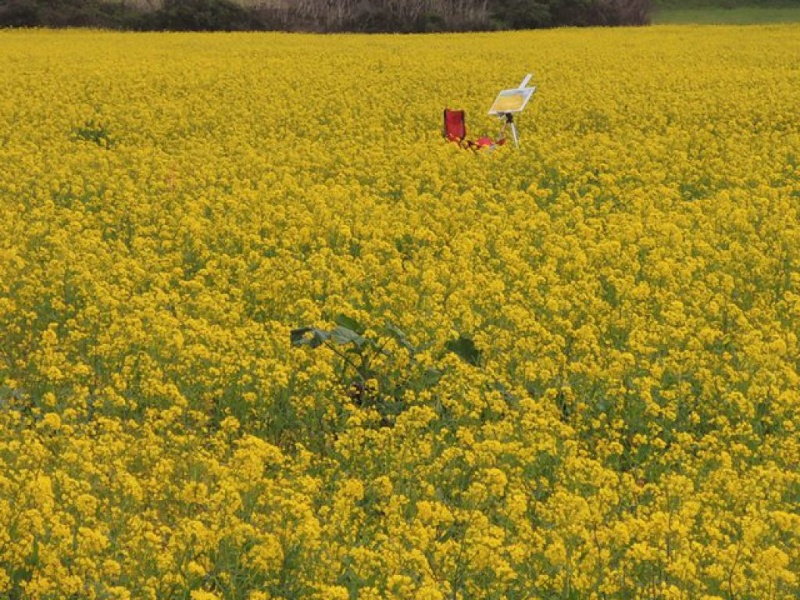mustard: (13, 150, 786, 590), (1, 44, 437, 158), (547, 28, 791, 166)
